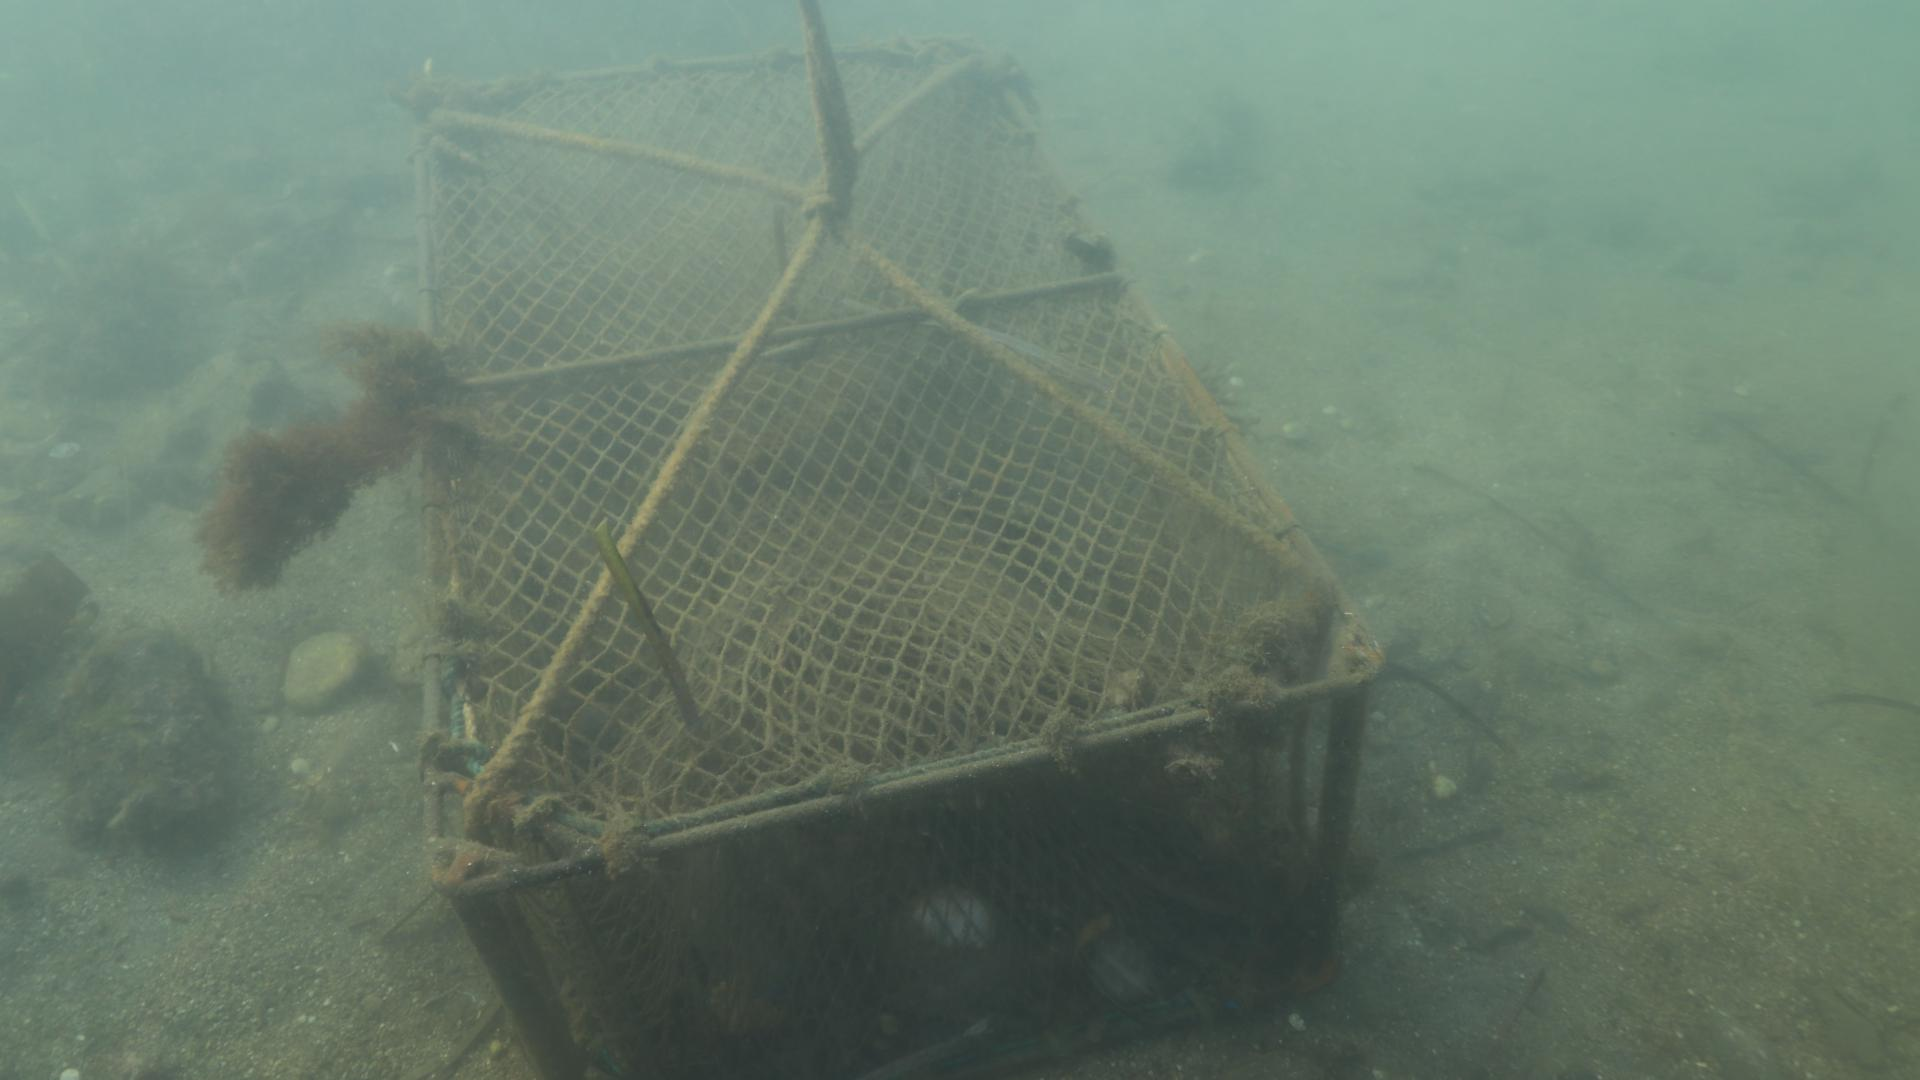bundle of ropes: (800, 0, 858, 228)
rectangular fish trap: (406, 38, 1390, 1080)
